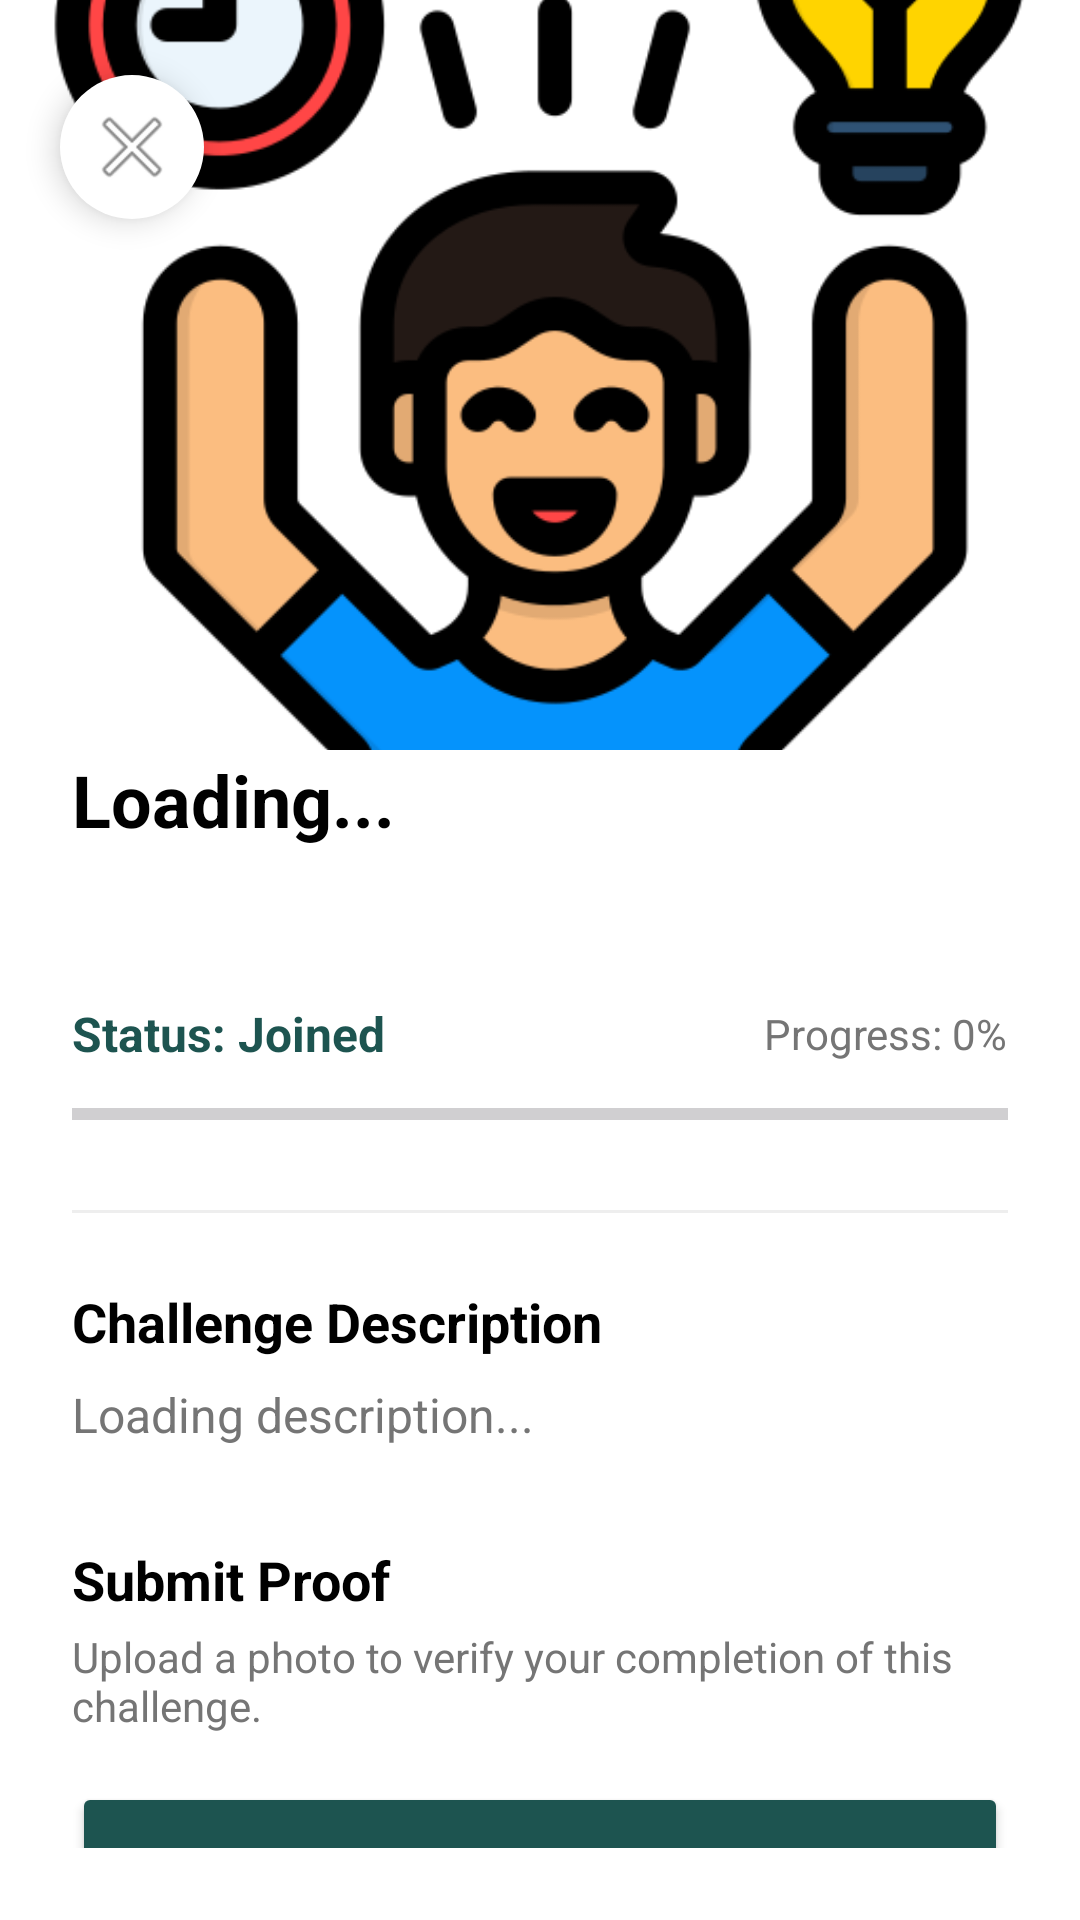

Named icons in this screenshot (1080x1920) and their centers, point (x, y):
close clear cancel: point (132, 142)
